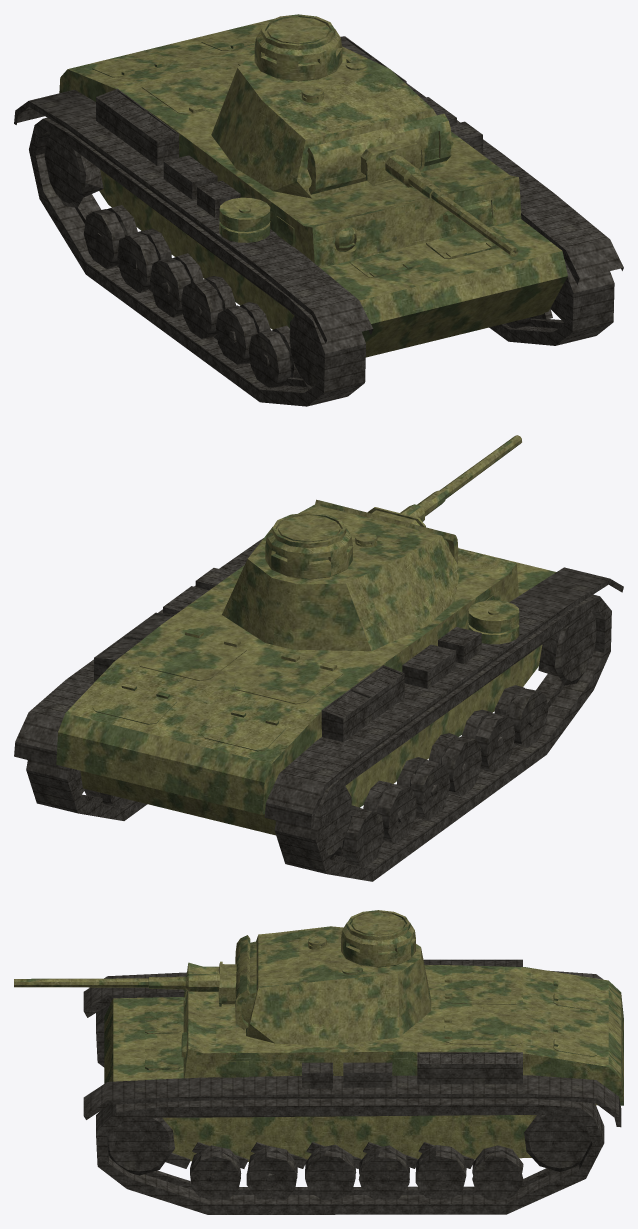
File: basic_tank.glb
The picture shows the model from 3 angles, top to bottom: view 1: azimuth 30°, elevation 25°; view 2: azimuth 150°, elevation 25°; view 3: azimuth 270°, elevation 25°; orthographic projection. The views are drawn at different scales.
Parts seen in each view (by area): view 1: Hull, Track_R, Turret, Track_L, Barrel; view 2: Hull, Track_R, Turret, Track_L, Barrel; view 3: Track_L, Hull, Turret, Barrel, Track_R.
Part boxes in pixels (left/top/right/bottom): Hull: left=59, top=19, right=567, bottom=357; Track_R: left=14, top=88, right=373, bottom=406; Turret: left=211, top=14, right=453, bottom=198; Track_L: left=340, top=36, right=623, bottom=345; Barrel: left=307, top=113, right=518, bottom=256; Hull: left=56, top=548, right=556, bottom=835; Track_R: left=264, top=567, right=623, bottom=881; Turret: left=222, top=504, right=460, bottom=651; Track_L: left=14, top=538, right=263, bottom=820; Barrel: left=315, top=435, right=521, bottom=564; Track_L: left=83, top=1052, right=621, bottom=1214; Hull: left=104, top=962, right=623, bottom=1161; Turret: left=246, top=910, right=431, bottom=1045; Barrel: left=14, top=935, right=256, bottom=1029; Track_R: left=83, top=959, right=603, bottom=1067.
Bounding box in the file's own units: 1.68 × 1.44 × 3.49.
2 materials, 2 textured.
